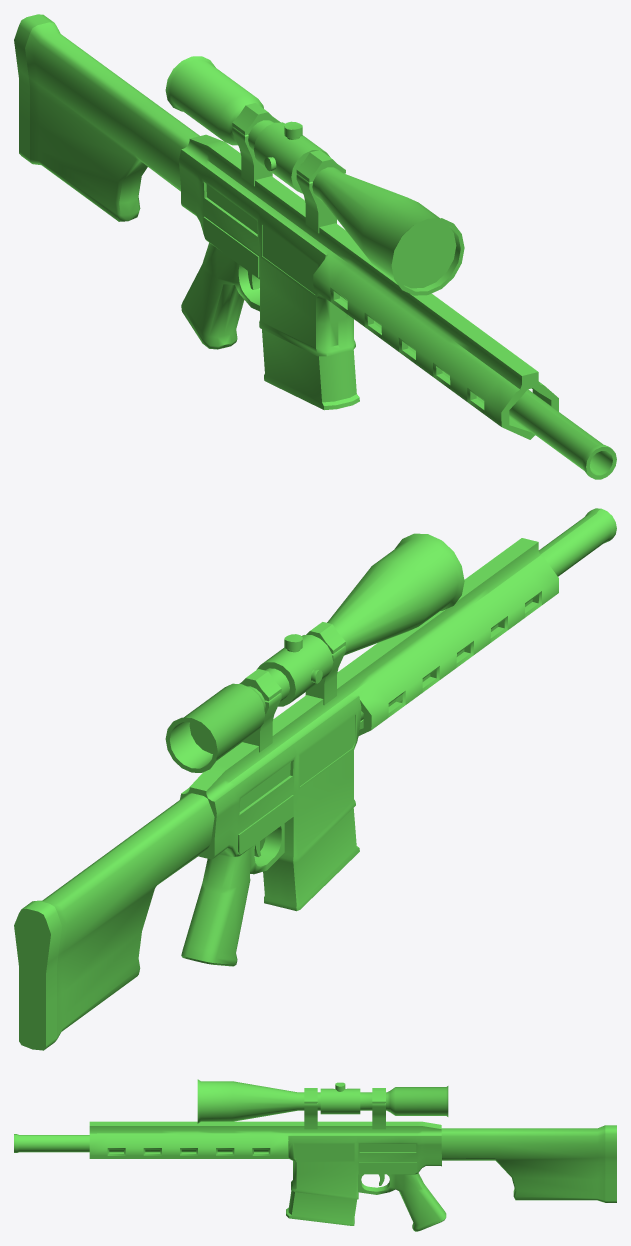
File: sniper_rifle.fbx
3 views of the same model, one above another, from view 1: azimuth 30°, elevation 25°; view 2: azimuth 150°, elevation 25°; view 3: azimuth 270°, elevation 25° (orthographic). The views are drawn at different scales.
Visible parts, largest first — view 1: sniper_rifle; view 2: sniper_rifle; view 3: sniper_rifle.
Boxes of the visible parts, bbox=[...] form: sniper_rifle: bbox=[14, 14, 616, 479]; sniper_rifle: bbox=[14, 508, 616, 1050]; sniper_rifle: bbox=[14, 1079, 616, 1231].
Bounding box in the file's own units: 9.32 × 34.01 × 126.
